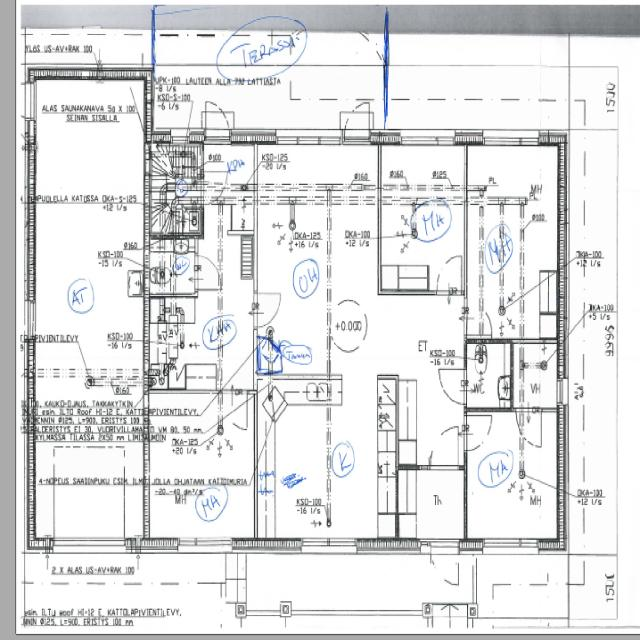door: (427, 422, 464, 472), (428, 538, 462, 590), (202, 157, 238, 202), (201, 99, 233, 146), (434, 251, 466, 296), (340, 102, 372, 146), (436, 366, 468, 407), (464, 412, 493, 455), (254, 289, 283, 330), (516, 406, 542, 449), (196, 254, 220, 290), (204, 172, 226, 204), (218, 315, 238, 347), (246, 170, 259, 189)
window: (479, 534, 539, 557), (298, 535, 360, 556), (175, 535, 236, 553), (398, 130, 456, 148), (481, 131, 539, 149), (280, 131, 338, 148), (22, 296, 38, 342), (22, 80, 38, 126), (326, 534, 358, 552), (554, 374, 569, 408)
zone: (30, 201, 149, 385), (466, 411, 560, 544), (259, 382, 334, 537), (380, 159, 462, 295), (146, 298, 223, 387), (395, 467, 467, 544), (466, 143, 551, 203), (381, 143, 466, 201), (464, 339, 514, 411), (392, 199, 464, 246), (512, 340, 559, 410), (146, 239, 198, 296), (199, 143, 257, 193), (152, 188, 202, 235), (217, 317, 241, 347)
